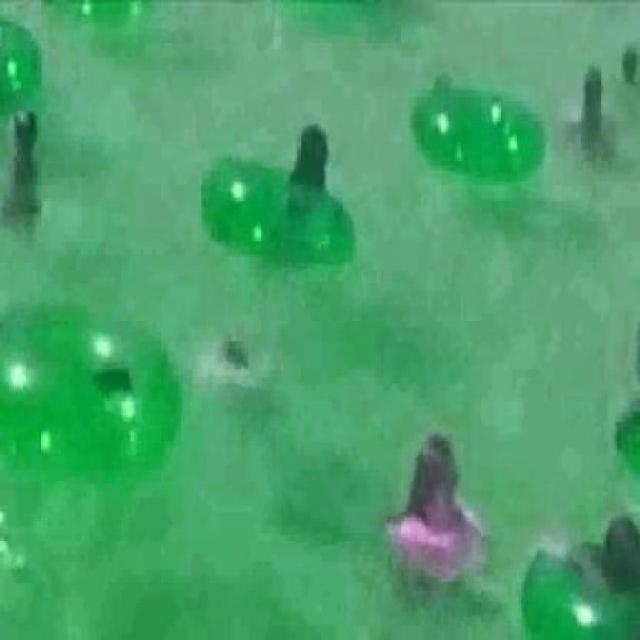drowning: (389, 432, 486, 596), (557, 66, 621, 180), (190, 330, 268, 408), (6, 110, 46, 216)
